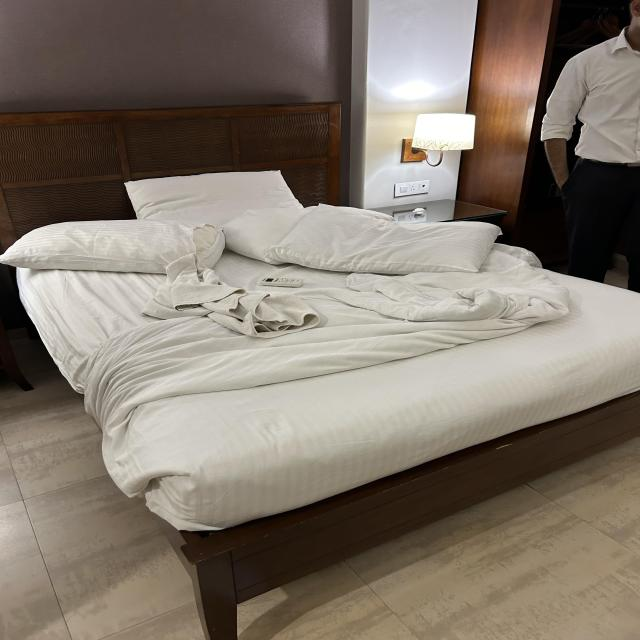mess: (8, 205, 640, 538)
